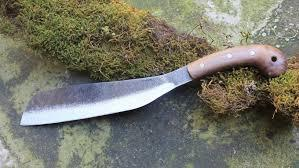Knife: (19, 44, 288, 127)
